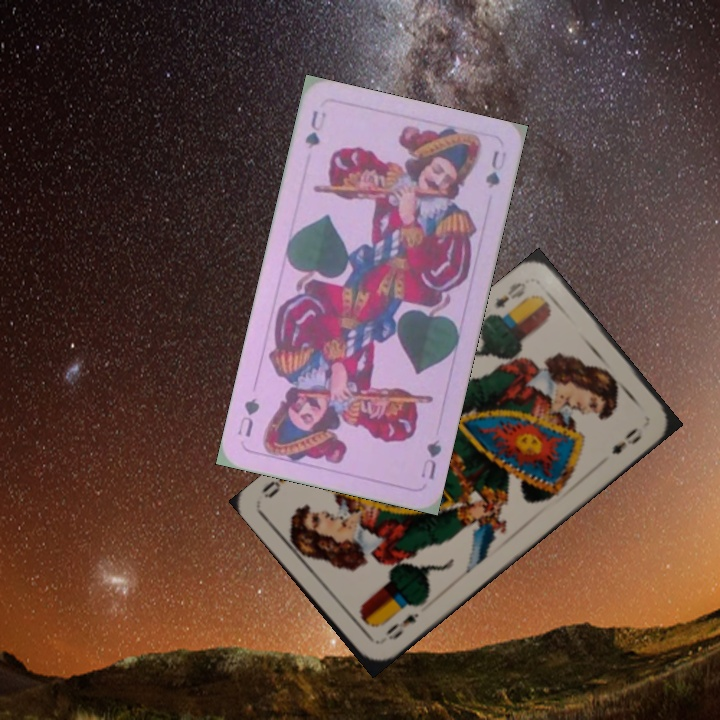EO: (382, 608, 422, 643), (491, 278, 529, 311)
GU: (300, 107, 329, 152), (417, 435, 444, 482)
